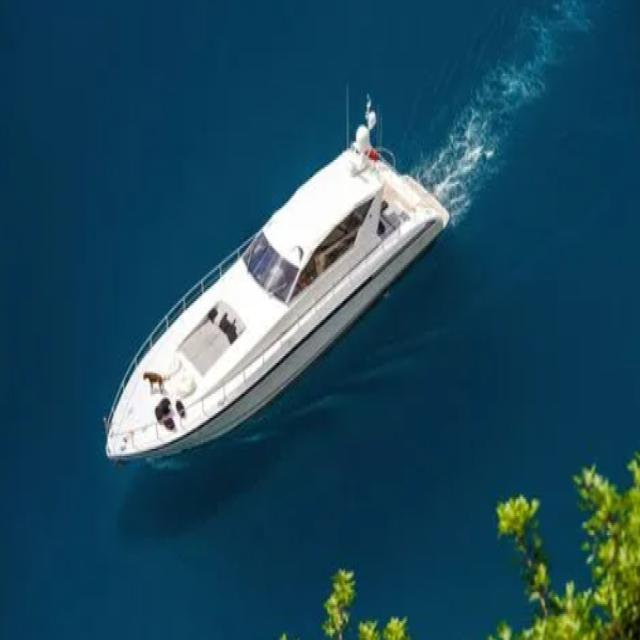houseboat: (99, 109, 449, 467)
